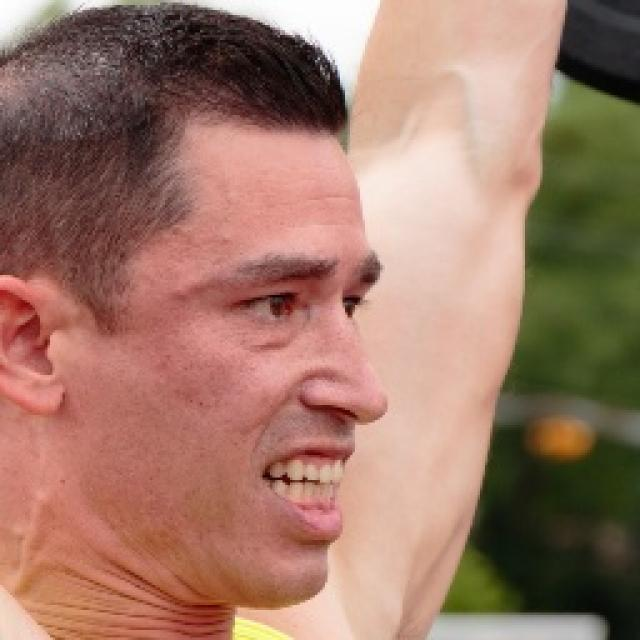earlobe: (0, 270, 67, 416)
